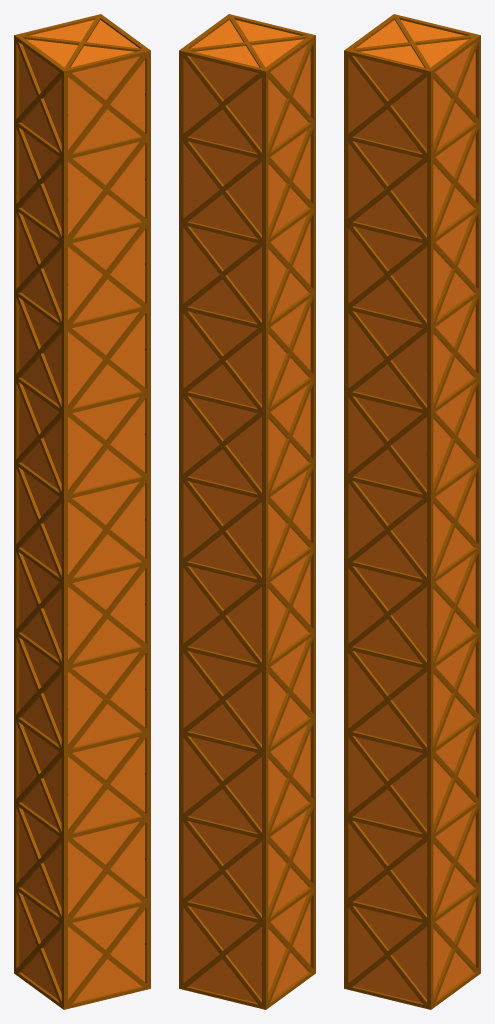
Rendered from cratePillar.fbx.
3 renders of one model, left to right at view 1: azimuth 30°, elevation 25°; view 2: azimuth 150°, elevation 25°; view 3: azimuth 330°, elevation 25°, orthographic.
Visible parts, largest first — view 1: Cube.010, Cube, Cube.007, Cube.001, Cube.004, Cube.009, Cube.006, Cube.005, Cube.003, Cube.008, Cube.002; view 2: Cube.010, Cube, Cube.007, Cube.001, Cube.004, Cube.009, Cube.006, Cube.005, Cube.003, Cube.008, Cube.002; view 3: Cube.010, Cube, Cube.007, Cube.001, Cube.004, Cube.009, Cube.006, Cube.005, Cube.003, Cube.008, Cube.002.
Boxes of the visible parts, left/top/right/bottom form: Cube.010: left=14, top=14, right=150, bottom=159; Cube: left=14, top=885, right=150, bottom=1009; Cube.007: left=14, top=205, right=150, bottom=330; Cube.001: left=14, top=715, right=150, bottom=839; Cube.004: left=14, top=461, right=150, bottom=584; Cube.009: left=14, top=120, right=150, bottom=244; Cube.006: left=14, top=375, right=150, bottom=499; Cube.005: left=14, top=630, right=150, bottom=754; Cube.003: left=14, top=545, right=150, bottom=669; Cube.008: left=14, top=291, right=150, bottom=414; Cube.002: left=14, top=801, right=150, bottom=924; Cube.010: left=179, top=14, right=315, bottom=159; Cube: left=179, top=885, right=315, bottom=1009; Cube.007: left=179, top=205, right=315, bottom=330; Cube.001: left=179, top=715, right=315, bottom=839; Cube.004: left=179, top=461, right=315, bottom=584; Cube.009: left=179, top=120, right=315, bottom=244; Cube.006: left=179, top=375, right=315, bottom=499; Cube.005: left=179, top=630, right=315, bottom=754; Cube.003: left=179, top=545, right=315, bottom=669; Cube.008: left=179, top=291, right=315, bottom=414; Cube.002: left=179, top=801, right=315, bottom=924; Cube.010: left=344, top=14, right=480, bottom=159; Cube: left=344, top=885, right=480, bottom=1009; Cube.007: left=344, top=205, right=480, bottom=330; Cube.001: left=344, top=715, right=480, bottom=839; Cube.004: left=344, top=461, right=480, bottom=584; Cube.009: left=344, top=120, right=480, bottom=244; Cube.006: left=344, top=375, right=480, bottom=499; Cube.005: left=344, top=630, right=480, bottom=754; Cube.003: left=344, top=545, right=480, bottom=669; Cube.008: left=344, top=291, right=480, bottom=414; Cube.002: left=344, top=801, right=480, bottom=924.
Bounding box in the file's own units: 214 × 2209 × 213.
